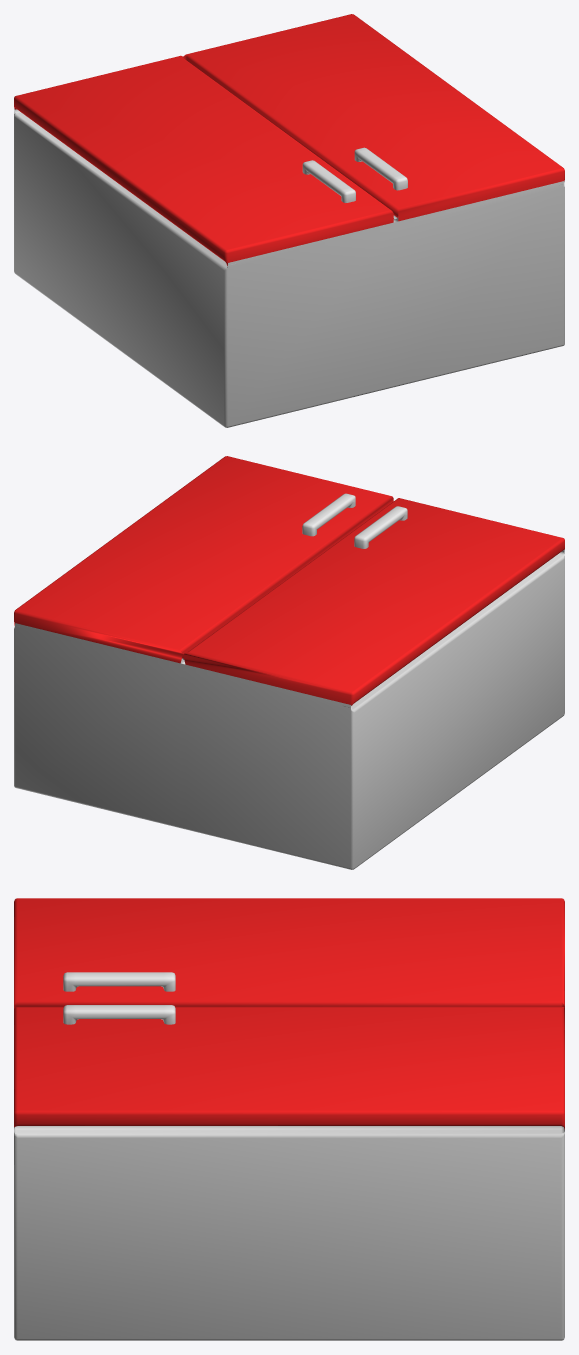
3 renders of one model, top to bottom at view 1: azimuth 30°, elevation 25°; view 2: azimuth 150°, elevation 25°; view 3: azimuth 270°, elevation 25°, orthographic. The views are drawn at different scales.
Visible parts, largest first — view 1: Cube.002; view 2: Cube.002; view 3: Cube.002.
Boxes of the visible parts, x1,y1,x2,y2 form: Cube.002: (14,14,564,427); Cube.002: (14,456,564,869); Cube.002: (14,898,564,1340).
Size of the model in its own units: 60 by 31.72 by 65.
